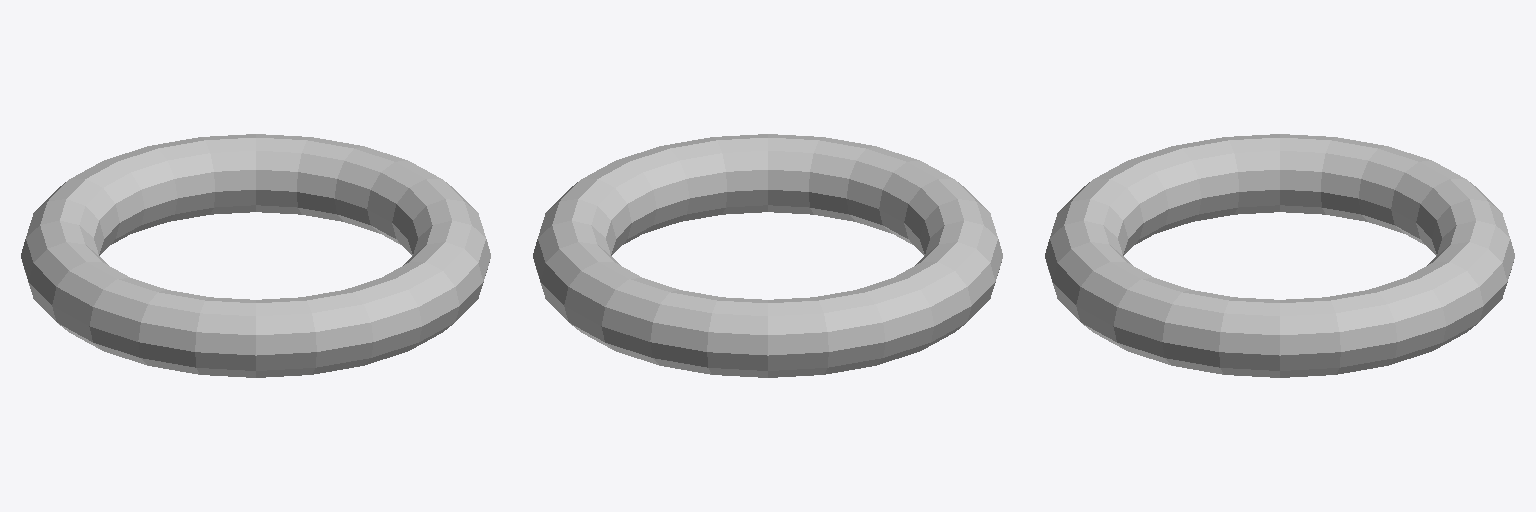
The model's file is aiming.obj.
The picture shows the model from 3 angles: view 1: azimuth 30°, elevation 25°; view 2: azimuth 150°, elevation 25°; view 3: azimuth 270°, elevation 25°; orthographic projection.
Visible parts, largest first — view 1: Torus001; view 2: Torus001; view 3: Torus001.
Boxes of the visible parts, <box> form: Torus001: <box>21,134,490,377</box>; Torus001: <box>533,134,1002,377</box>; Torus001: <box>1045,134,1514,377</box>.
Size of the model in its own units: 36 by 6 by 36.